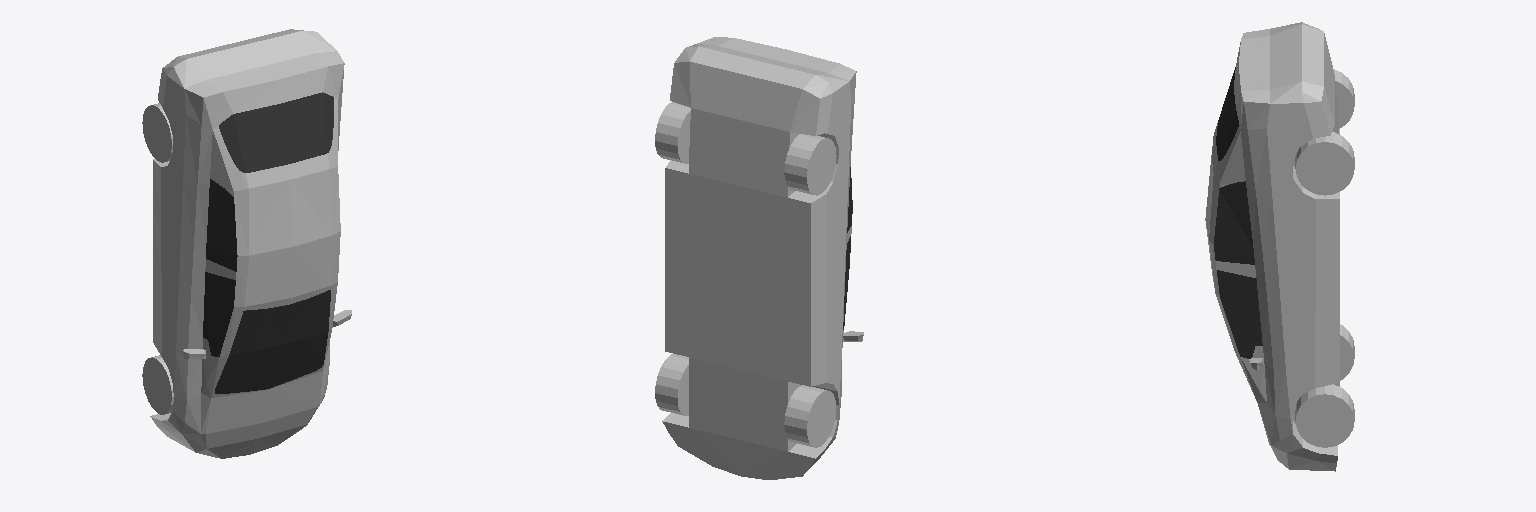
The model's file is scaled_car.obj.
The picture shows the model from 3 angles: view 1: azimuth 30°, elevation 25°; view 2: azimuth 150°, elevation 25°; view 3: azimuth 270°, elevation 25°; orthographic projection.
Parts seen in each view (by area): view 1: Hybrid; view 2: Hybrid; view 3: Hybrid.
Part boxes in pixels (x1,y1,x2,y2): Hybrid: (142, 29, 351, 458); Hybrid: (655, 37, 863, 479); Hybrid: (1205, 22, 1354, 471).
Size of the model in its own units: 2.01 by 4.62 by 1.54.